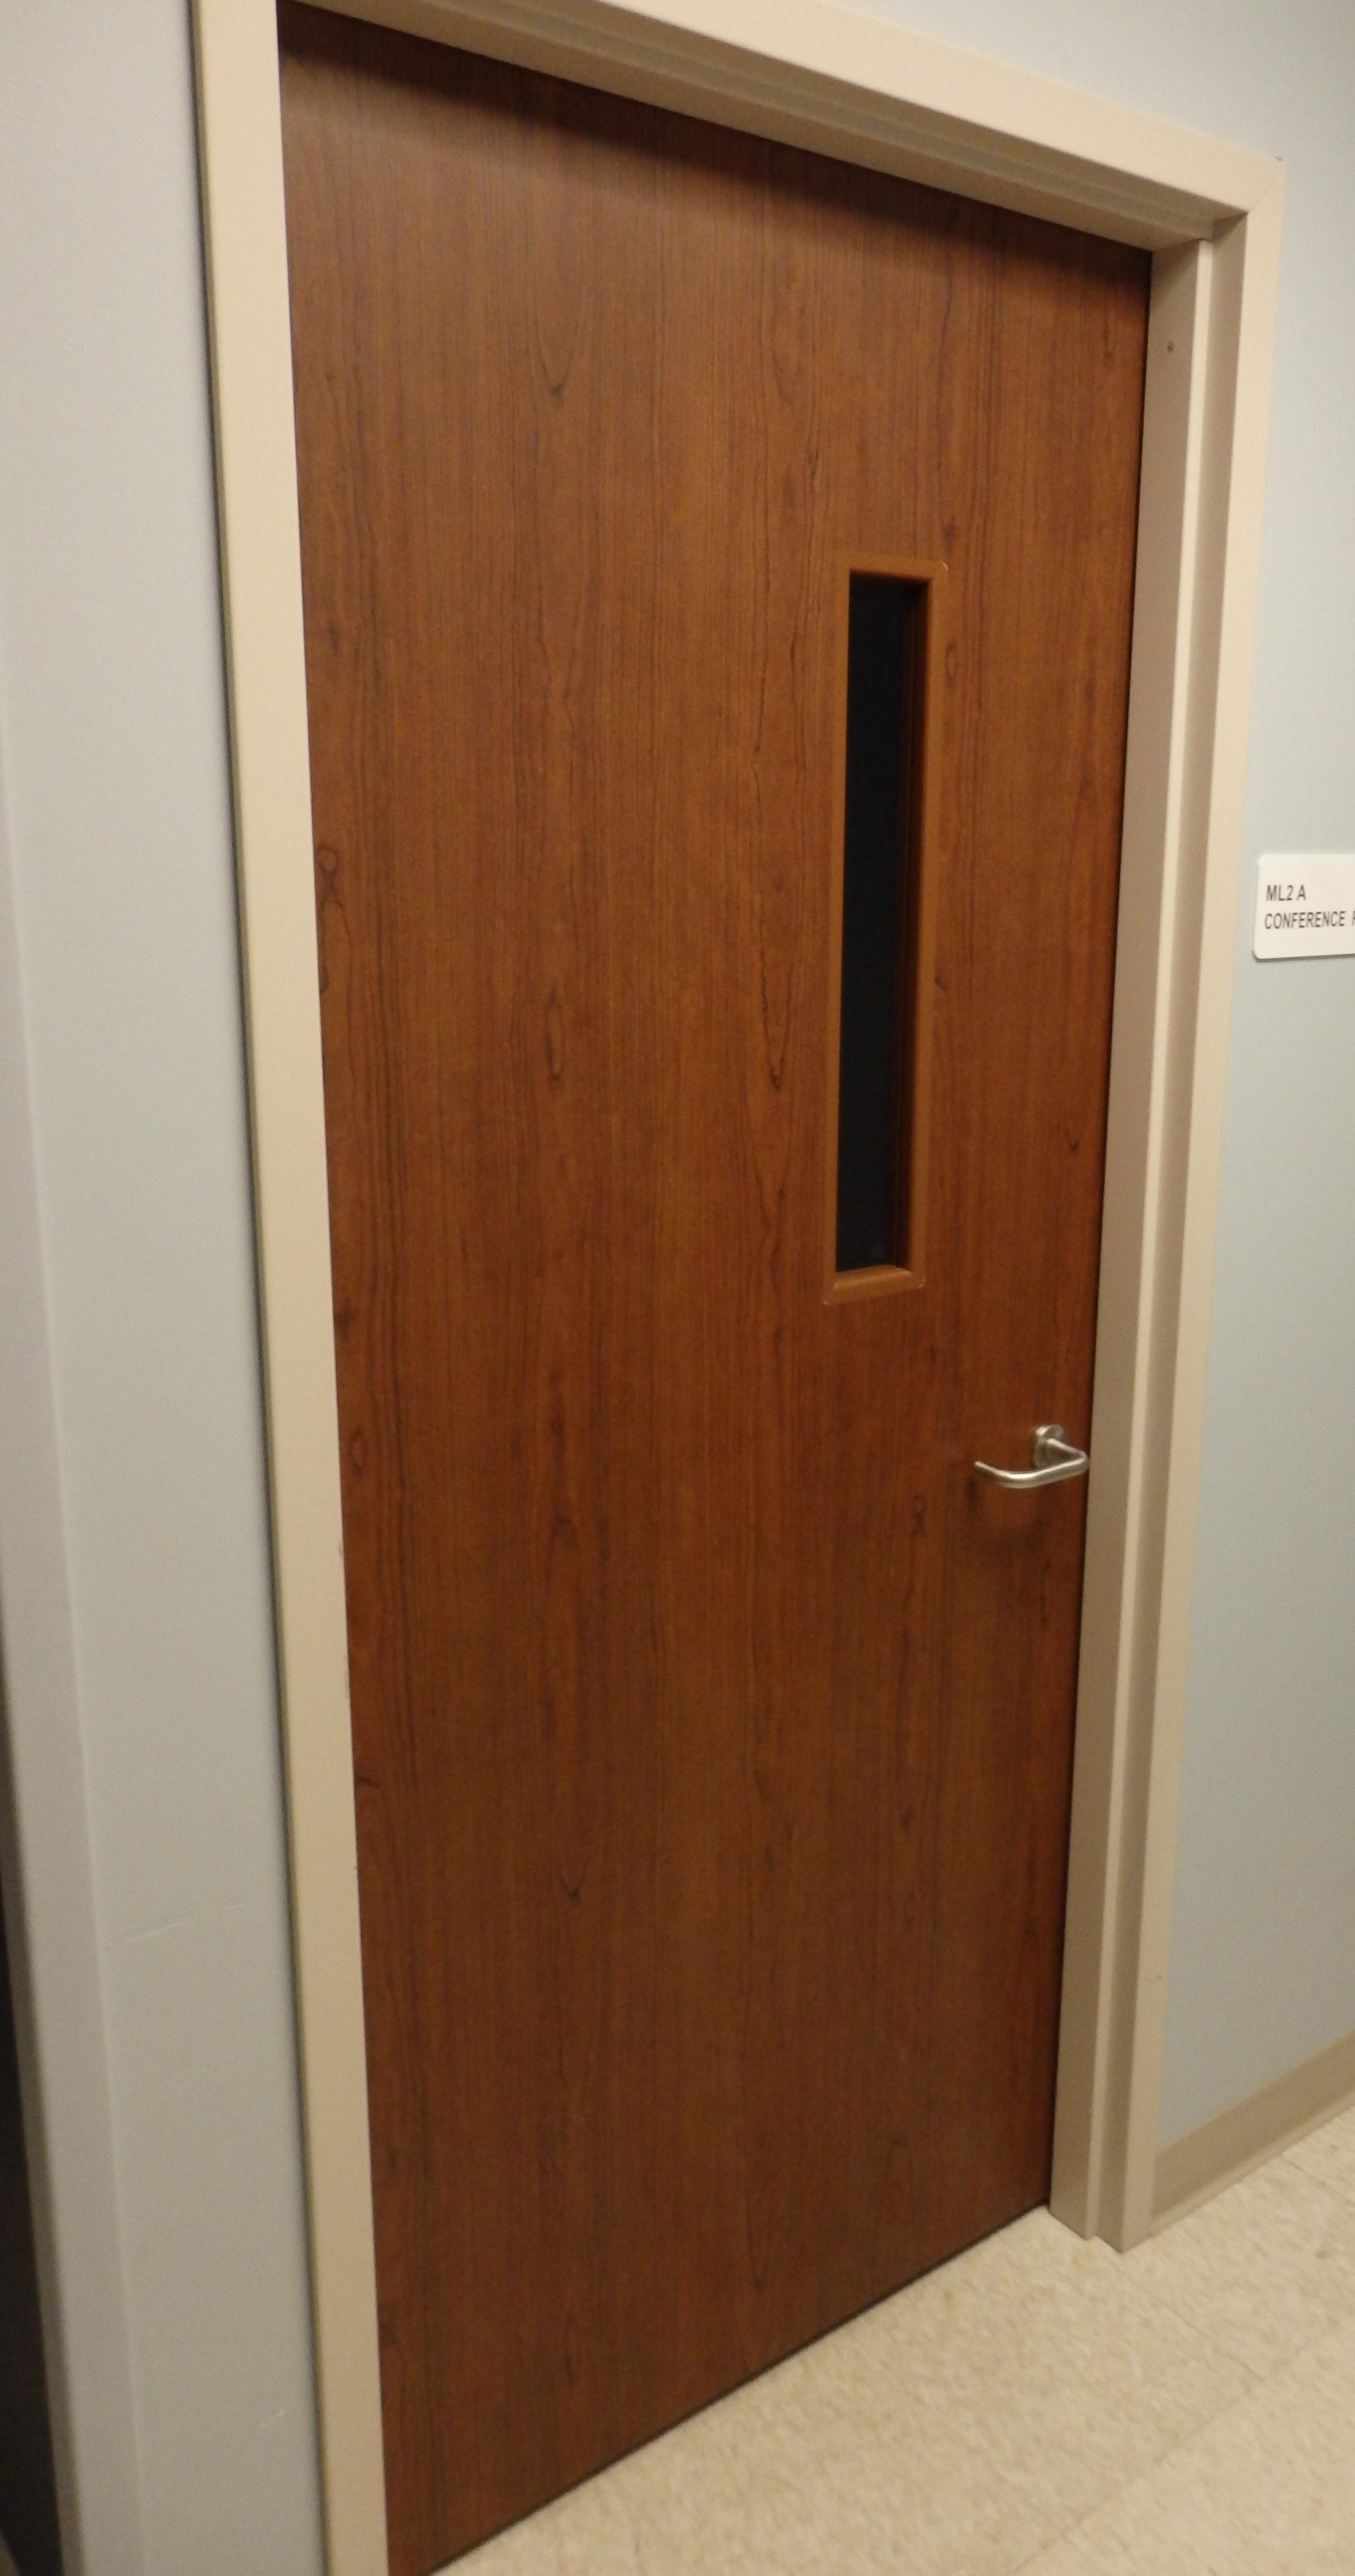door: (193, 5, 1287, 2573)
